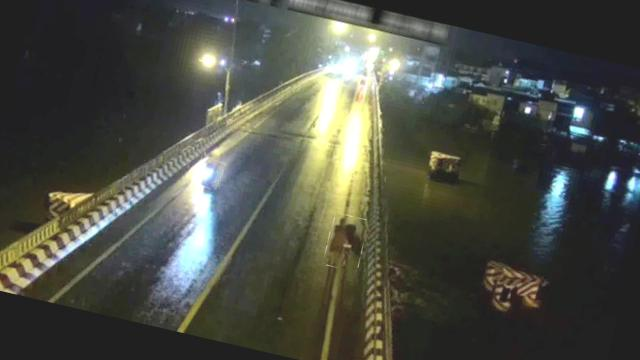Bike: (323, 212, 370, 273), (192, 156, 225, 190)
